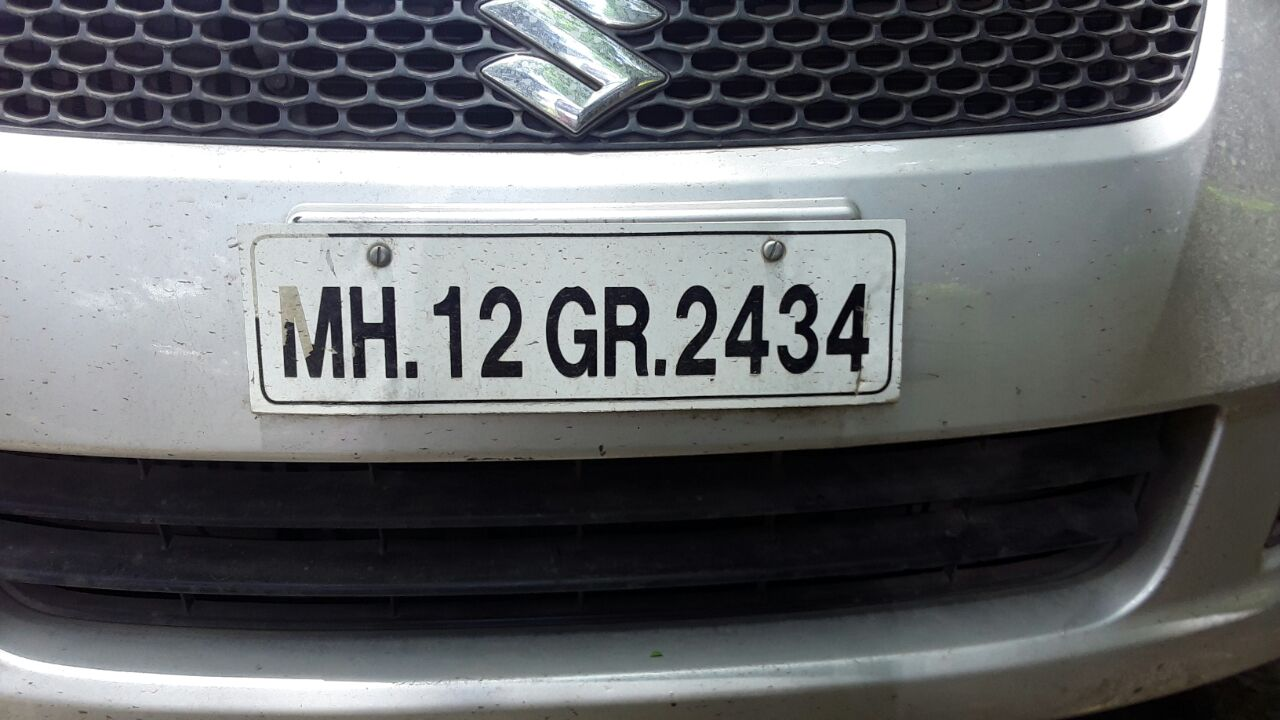licenseplate: (239, 212, 900, 412)
